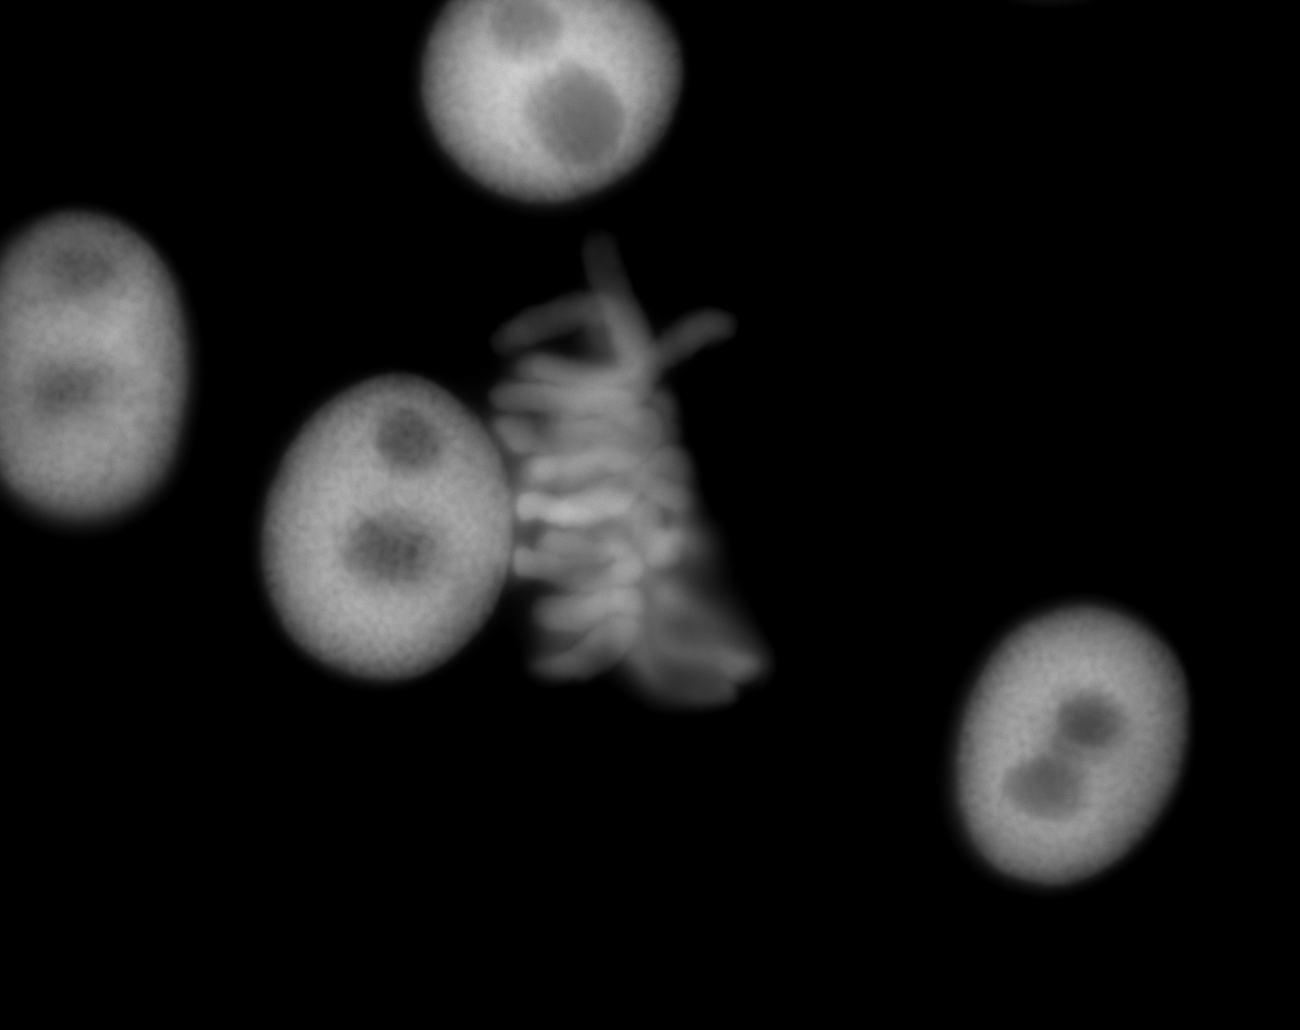Chromosomes: (442, 207, 827, 705)
Others: (914, 543, 1241, 932), (225, 336, 518, 704), (3, 182, 207, 560), (390, 1, 718, 217)
